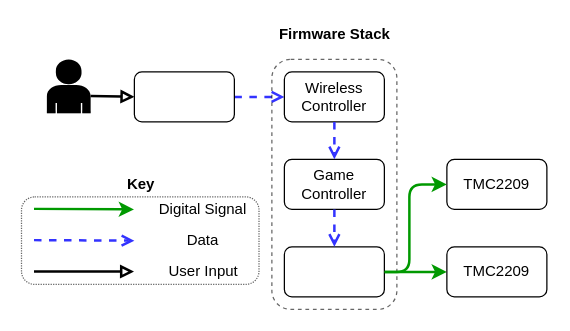
This 570x331 diagram has some shape labels left out. The shapes that lost their labels are listed below. From the top down, each one's box as (x1, y1, x2, y2) in pixels, then its label:
(133, 71, 234, 122): Web App
(283, 246, 384, 297): Robot Control
